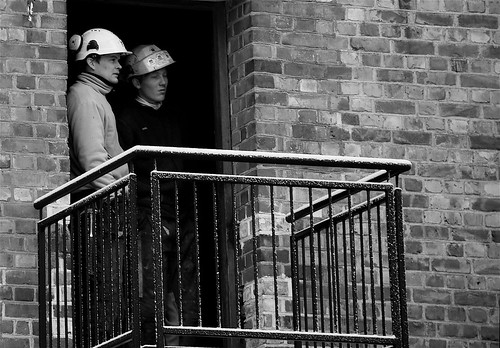person hardhat: (59, 27, 142, 326), (120, 36, 190, 332)
